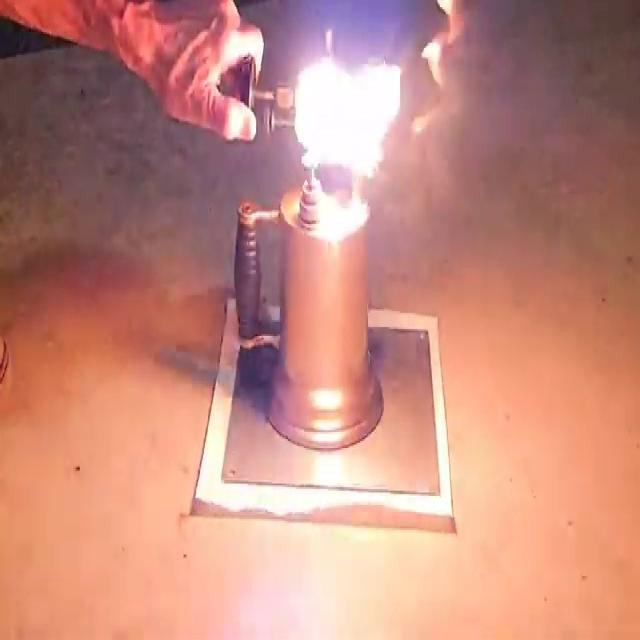fire: (278, 29, 419, 191)
